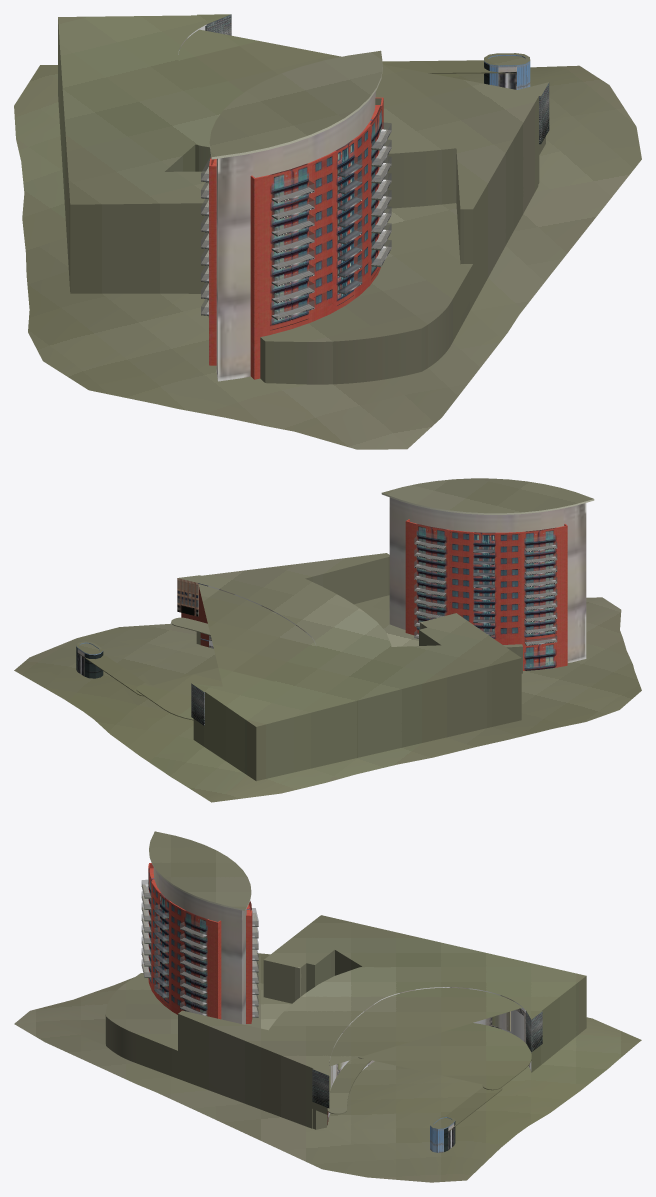
File: 53-Park-Central.fbx
The picture shows the model from 3 angles, top to bottom: view 1: azimuth 30°, elevation 25°; view 2: azimuth 150°, elevation 25°; view 3: azimuth 270°, elevation 25°; orthographic projection. The views are drawn at different scales.
Parts seen in each view (by area): view 1: Group_2_1, Model, Group1; view 2: Group_2_1, Model, Group1; view 3: Group_2_1, Model, Group1.
Part boxes in pixels (x1,y1,x2,y2): Group_2_1: [58, 14, 549, 384]; Model: [14, 65, 641, 449]; Group1: [382, 60, 498, 73]; Group_2_1: [76, 478, 594, 780]; Model: [14, 597, 641, 802]; Group1: [84, 617, 222, 720]; Group_2_1: [105, 831, 586, 1152]; Model: [14, 953, 641, 1182]; Group1: [327, 1023, 531, 1126].
Size of the model in its own units: 141217 by 45753 by 160622.
